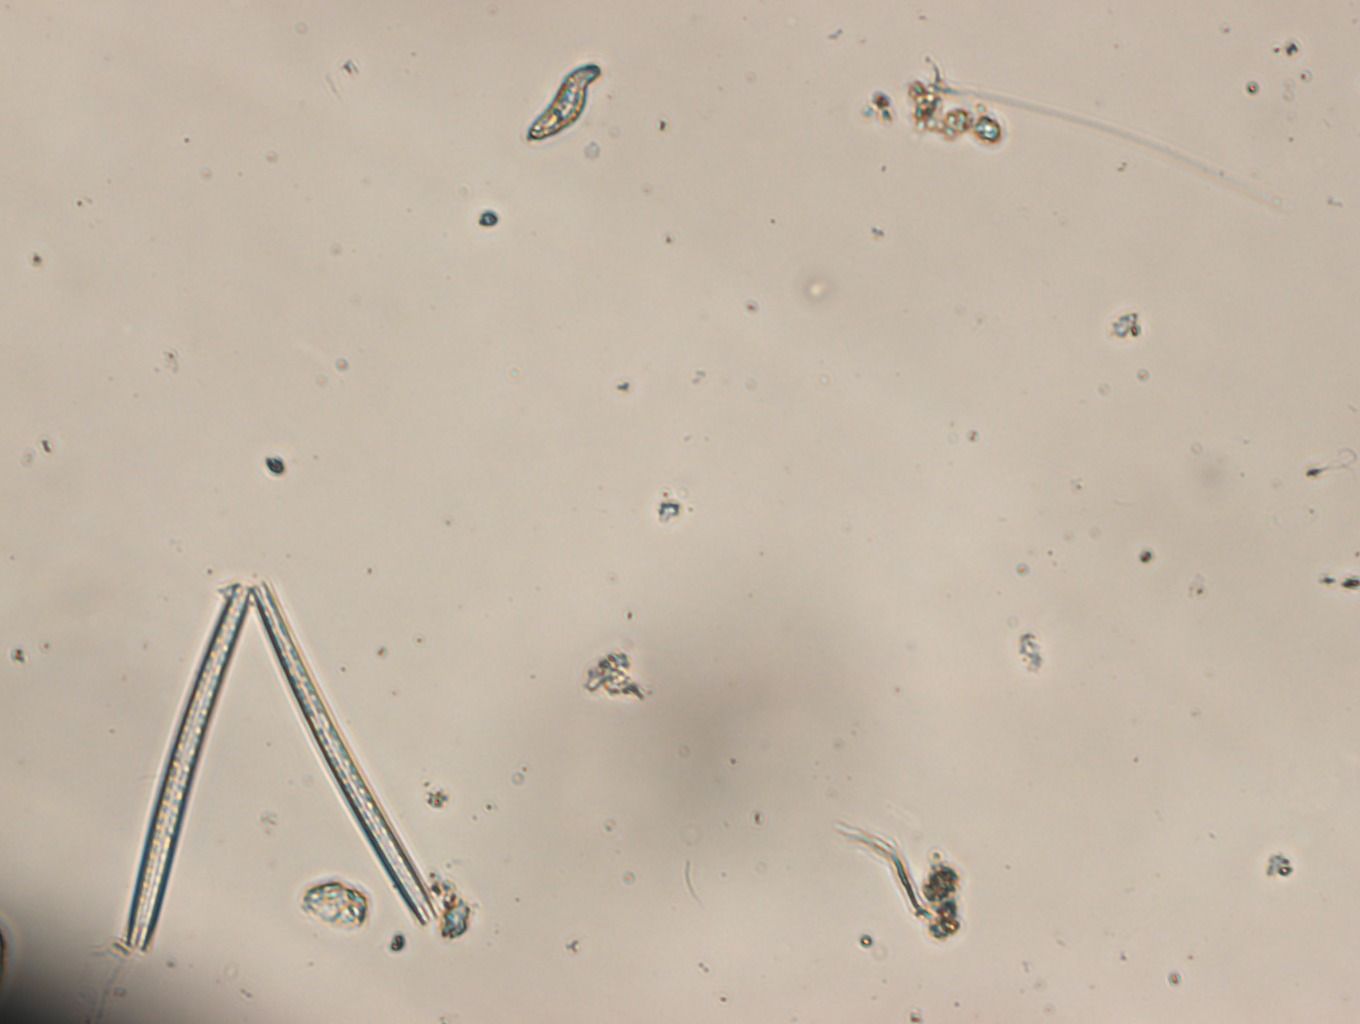thalassionema frauenfeldii: (121, 577, 440, 953)
